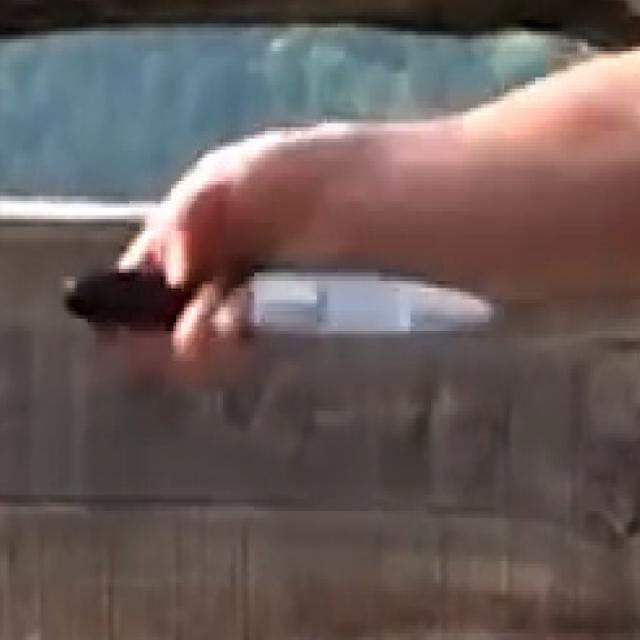suspicion: (54, 38, 636, 394), (57, 266, 500, 344)
